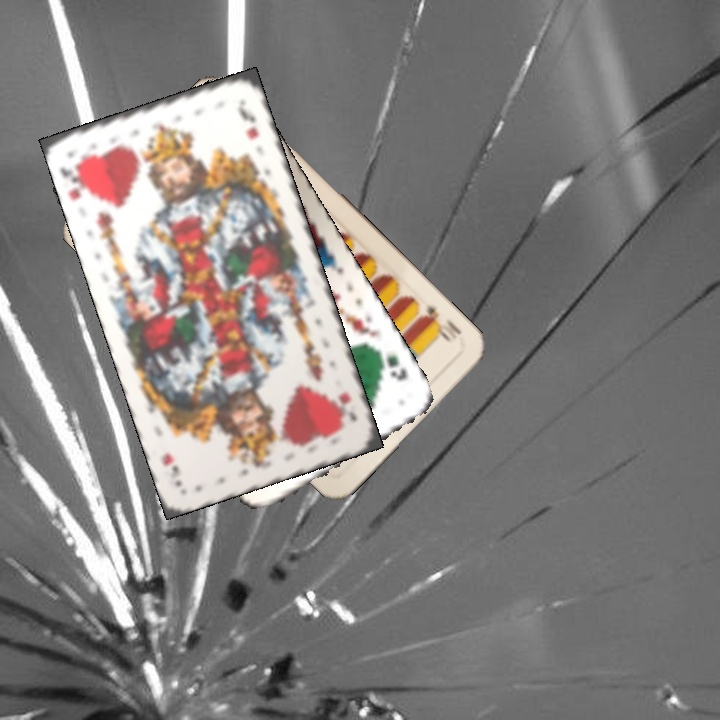E10: (417, 299, 465, 345)
GK: (371, 347, 411, 384)
HK: (56, 157, 95, 204), (330, 388, 359, 431)
